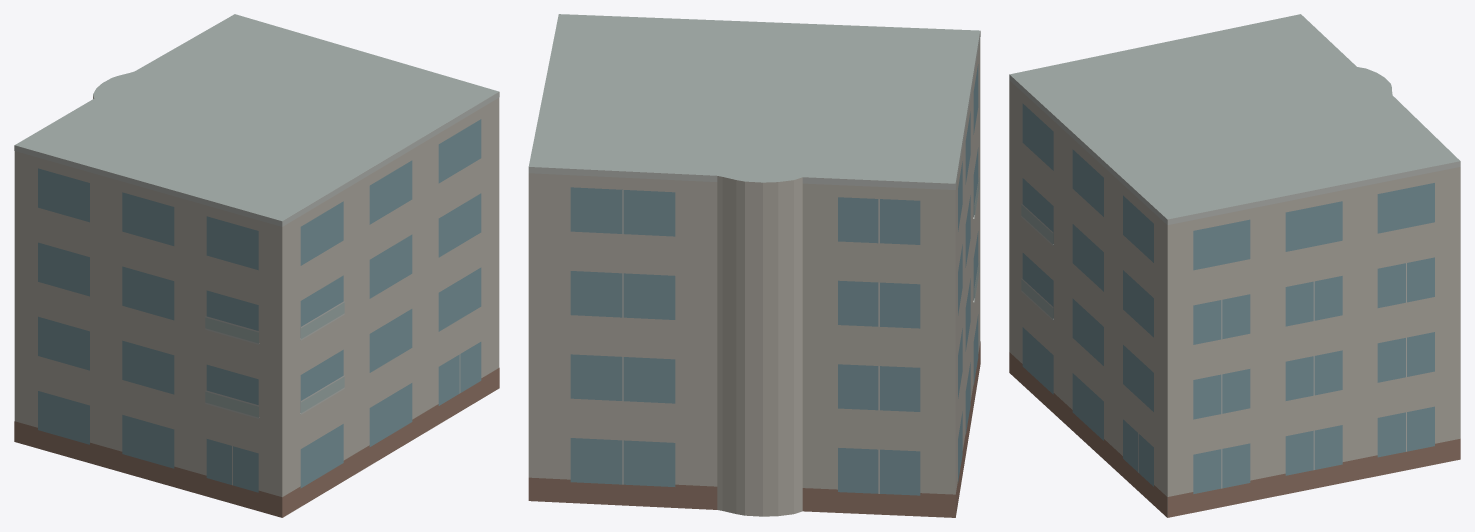
Rendered from survey-upis-32927217.glb.
3 renders of one model, left to right at view 1: azimuth 30°, elevation 25°; view 2: azimuth 150°, elevation 25°; view 3: azimuth 270°, elevation 25°, orthographic. The views are drawn at different scales.
Visible parts, largest first — view 1: survey-upis-32927217.tmp; view 2: survey-upis-32927217.tmp; view 3: survey-upis-32927217.tmp.
Part boxes in pixels (left/top/right/bottom): survey-upis-32927217.tmp: left=14, top=14, right=499, bottom=517; survey-upis-32927217.tmp: left=528, top=14, right=980, bottom=517; survey-upis-32927217.tmp: left=1009, top=14, right=1460, bottom=517.
Size of the model in its own units: 18.92 by 12.8 by 17.55.
